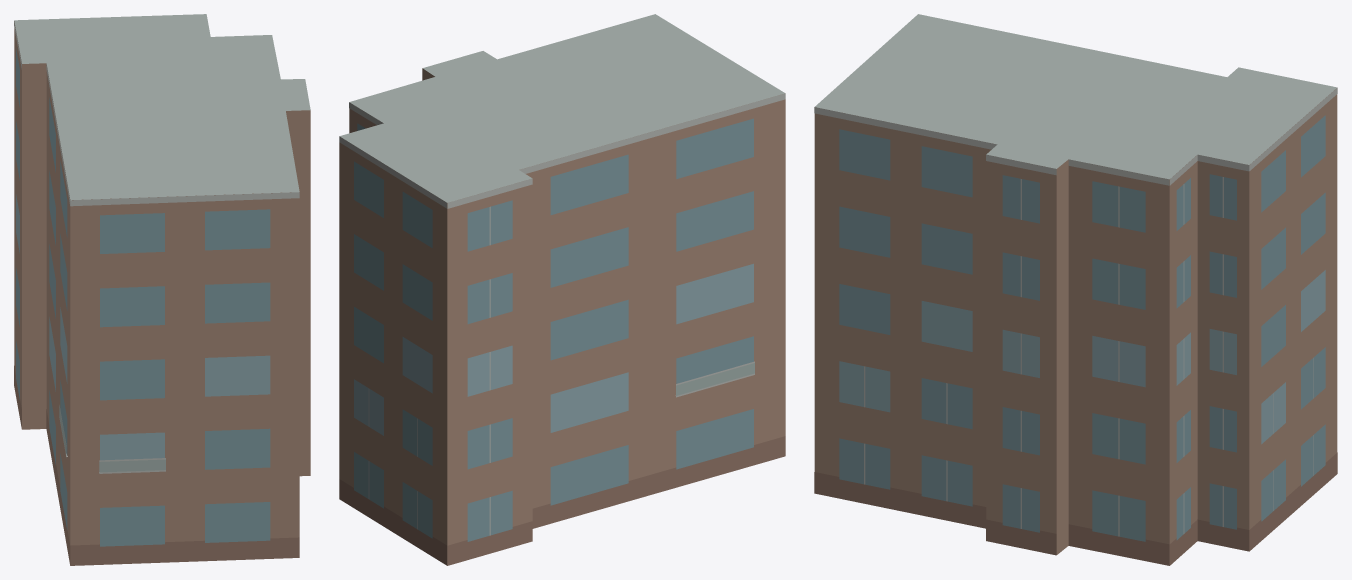
File: survey-upis-32532854.glb
3 renders of one model, left to right at view 1: azimuth 30°, elevation 25°; view 2: azimuth 150°, elevation 25°; view 3: azimuth 270°, elevation 25°, orthographic. The views are drawn at different scales.
Visible parts, largest first — view 1: survey-upis-32532854.tmp; view 2: survey-upis-32532854.tmp; view 3: survey-upis-32532854.tmp.
Boxes of the visible parts, x1,y1,x2,y2 form: survey-upis-32532854.tmp: (14,14,310,565); survey-upis-32532854.tmp: (339,14,785,565); survey-upis-32532854.tmp: (814,14,1337,565).
Size of the model in its own units: 13.5 by 14.7 by 18.04.
